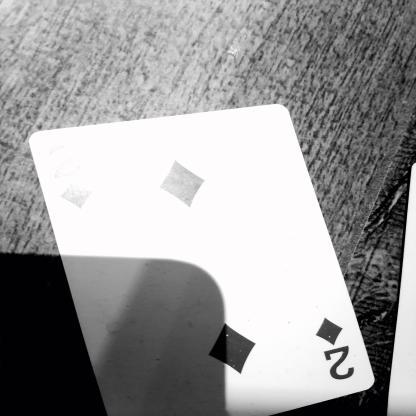2D: (307, 310, 368, 385)
